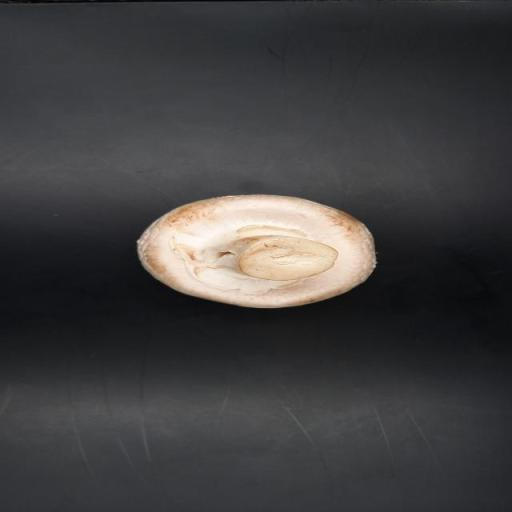mushroom: (137, 194, 377, 309)
